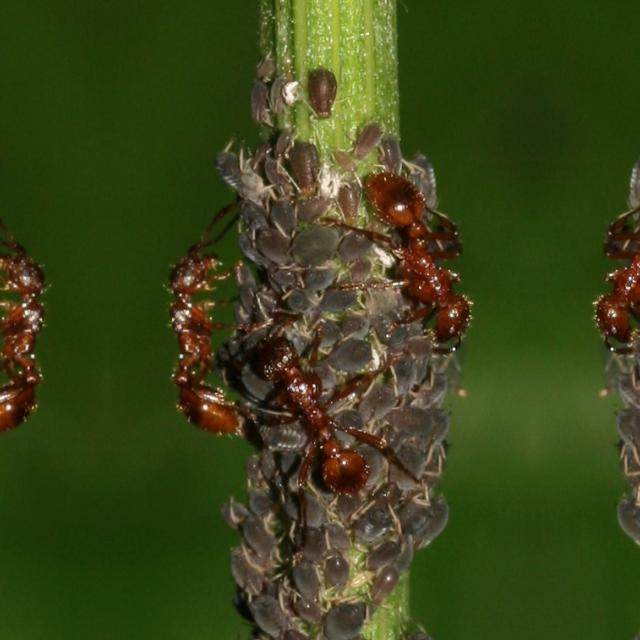Myrmica: (245, 300, 388, 530), (355, 152, 479, 378), (152, 217, 238, 433), (0, 217, 58, 433), (586, 152, 640, 376)
